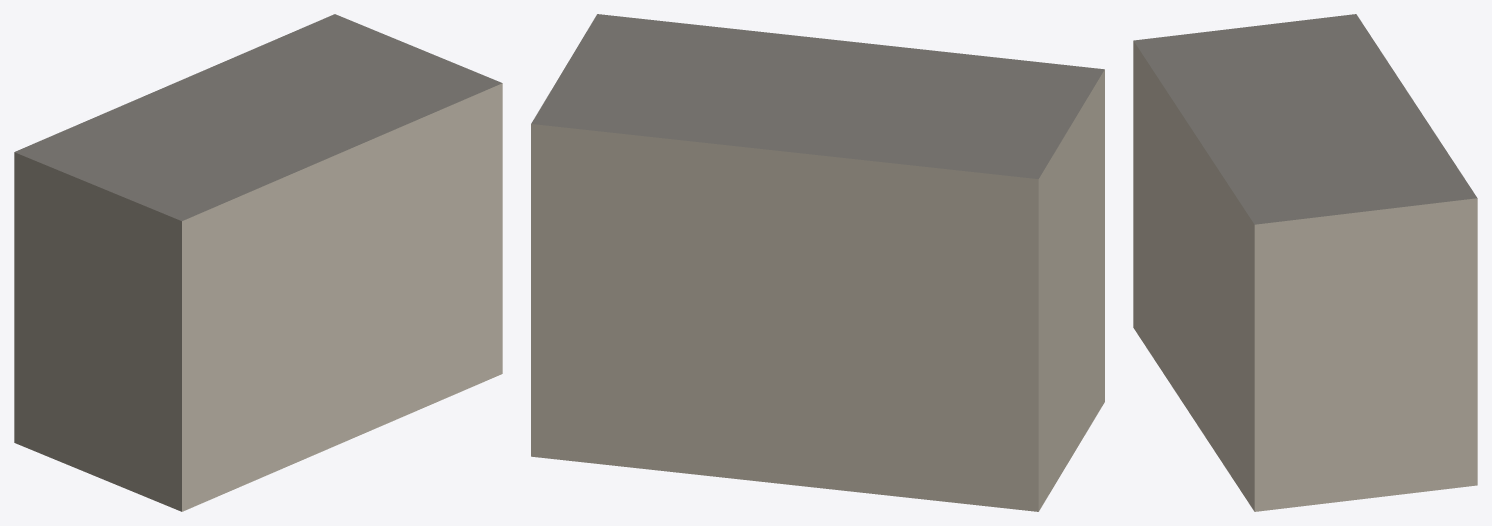
3 renders of one model, left to right at view 1: azimuth 30°, elevation 25°; view 2: azimuth 150°, elevation 25°; view 3: azimuth 270°, elevation 25°, orthographic. The views are drawn at different scales.
Parts seen in each view (by area): view 1: HP-w446937284; view 2: HP-w446937284; view 3: HP-w446937284.
Boxes of the visible parts, left/top/right/bottom form: HP-w446937284: left=14, top=14, right=502, bottom=511; HP-w446937284: left=531, top=14, right=1104, bottom=511; HP-w446937284: left=1133, top=14, right=1477, bottom=511.
Size of the model in its own units: 28.32 by 18 by 19.55.
